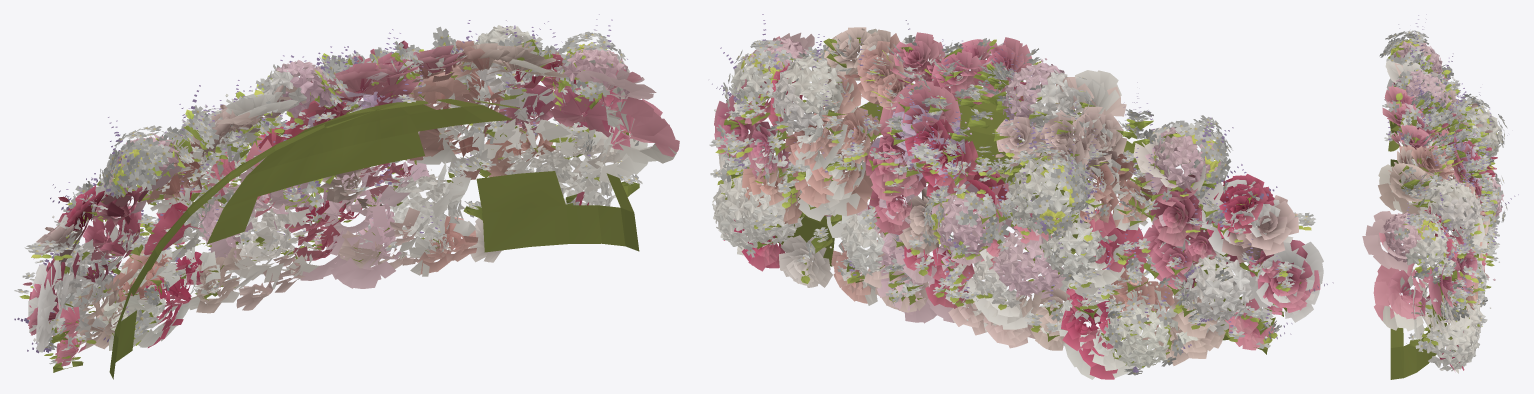
Rendered from vr27n_D_bank_bright_v11.glb.
The picture shows the model from 3 angles, left to right: view 1: azimuth 30°, elevation 25°; view 2: azimuth 150°, elevation 25°; view 3: azimuth 270°, elevation 25°; orthographic projection. The views are drawn at different scales.
Visible parts, largest first — view 1: petals; view 2: petals; view 3: petals.
Part boxes in pixels (left/top/right/bottom): petals: left=14, top=14, right=679, bottom=379; petals: left=709, top=14, right=1333, bottom=379; petals: left=1362, top=14, right=1518, bottom=379.
Bounding box in the file's own units: 0.024 × 0.0103 × 0.00667.
